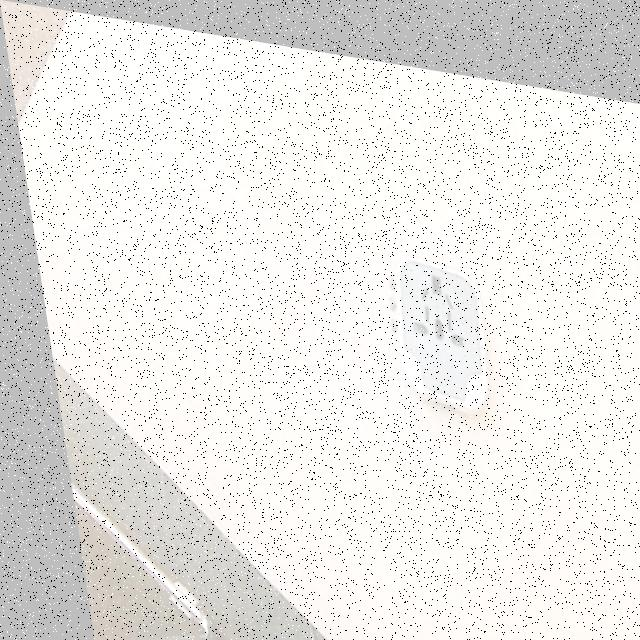adapter: (371, 236, 487, 403)
